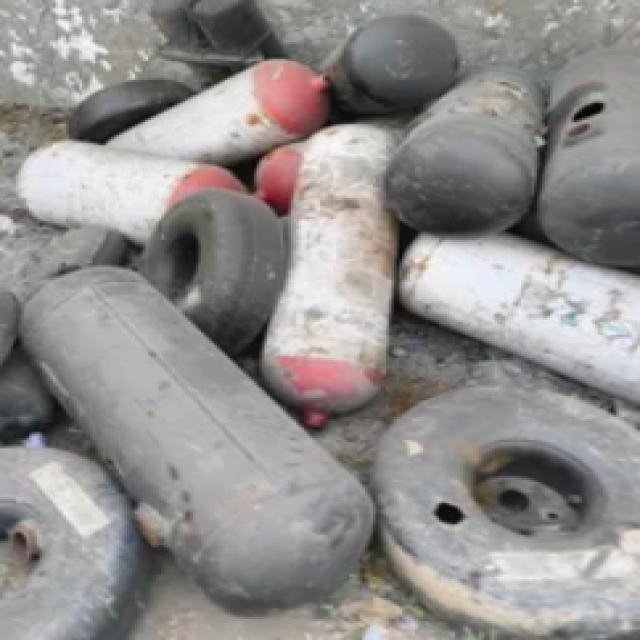cylinder: (260, 125, 401, 430), (106, 60, 331, 167)
